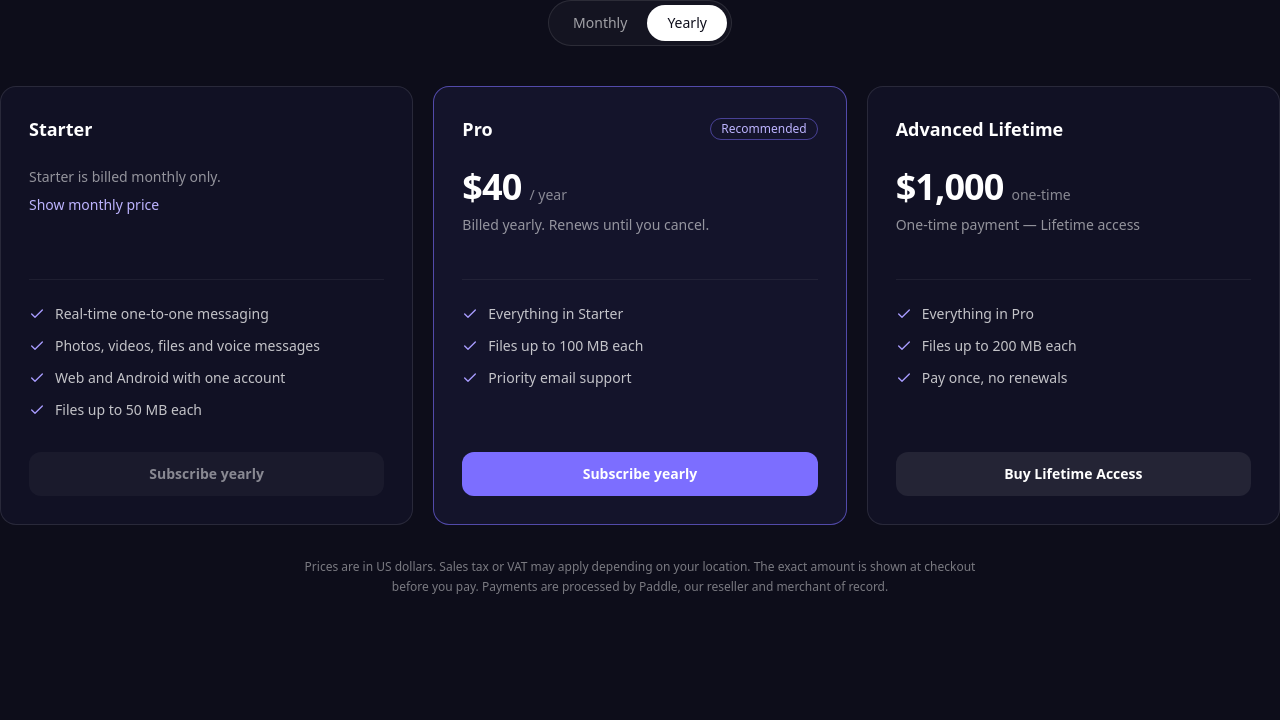
it: pricing table › with a price missing, shows the other interval instead of a made-up price
Expected: the text "Starter is billed monthly only." is shown, [29, 167, 221, 186]
Click the radio button labelled "Monthly" at (600,23), box [553, 5, 647, 41]
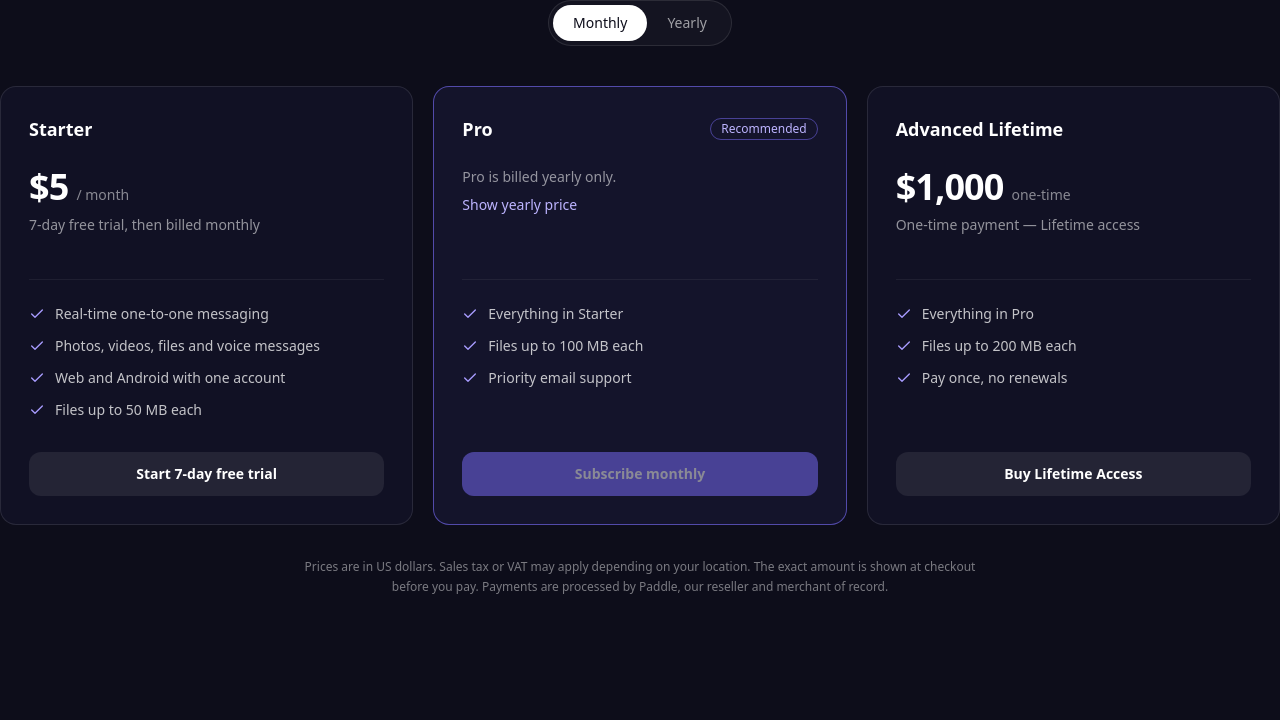
Now the text "Pro is billed yearly only." is shown, box [462, 167, 616, 186]
Now the text with test id "price-pro" is gone
